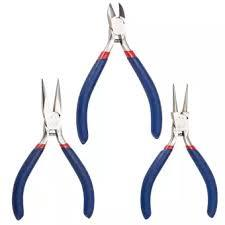pliers: (75, 0, 164, 144), (11, 76, 94, 219)
